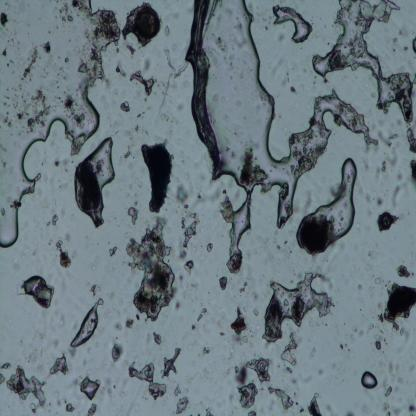Air bubble: (203, 0, 380, 231), (0, 1, 122, 249), (310, 0, 416, 124), (259, 273, 331, 340), (70, 137, 116, 229), (314, 158, 358, 245), (226, 193, 259, 272), (69, 296, 104, 350), (272, 3, 314, 45), (4, 366, 48, 406), (19, 277, 54, 312), (80, 378, 101, 402), (360, 368, 380, 391), (48, 356, 70, 375), (404, 128, 416, 157)
Background material: (126, 223, 178, 322), (378, 281, 416, 332), (127, 362, 166, 401), (18, 90, 51, 132), (293, 129, 319, 177), (231, 366, 258, 412), (28, 328, 57, 368), (204, 25, 233, 65), (241, 149, 267, 189), (121, 118, 144, 160), (158, 345, 182, 383), (21, 38, 41, 82), (280, 329, 299, 375), (178, 210, 200, 249), (80, 24, 101, 64), (244, 356, 273, 384), (59, 95, 86, 124), (229, 306, 249, 345), (116, 9, 138, 44), (379, 378, 399, 416), (130, 69, 155, 99), (94, 12, 118, 43), (267, 385, 295, 411), (390, 167, 406, 207), (371, 153, 395, 179), (155, 90, 173, 124), (378, 123, 400, 149), (98, 373, 117, 401), (377, 211, 400, 233), (352, 314, 374, 336), (54, 1, 74, 25), (191, 307, 210, 332), (56, 240, 73, 267), (174, 180, 188, 210), (306, 392, 322, 415), (238, 276, 256, 296), (174, 394, 190, 416), (52, 63, 66, 88), (277, 237, 294, 257), (6, 30, 22, 51), (322, 397, 338, 416), (70, 0, 89, 16), (109, 342, 124, 362), (112, 62, 128, 80), (126, 204, 139, 226), (117, 99, 132, 117), (50, 390, 63, 410), (122, 42, 138, 58), (396, 262, 411, 279), (408, 156, 416, 187), (2, 88, 15, 107), (402, 399, 416, 416), (182, 258, 195, 276), (54, 160, 70, 174), (77, 62, 92, 76), (65, 342, 76, 360), (371, 195, 384, 210), (196, 344, 212, 356), (386, 363, 398, 378), (282, 69, 292, 87), (43, 39, 53, 57), (219, 275, 229, 292), (88, 285, 100, 299), (152, 332, 163, 347), (2, 113, 13, 128), (175, 270, 184, 288), (50, 340, 63, 352), (67, 376, 80, 388), (106, 288, 117, 302), (0, 10, 9, 27), (203, 404, 215, 416), (0, 204, 8, 221), (4, 56, 15, 68), (64, 402, 75, 414), (10, 199, 22, 210), (86, 402, 97, 414), (106, 245, 118, 256), (172, 300, 182, 313), (50, 213, 60, 226), (124, 317, 134, 330), (204, 241, 214, 254), (1, 361, 12, 372), (104, 75, 112, 90), (186, 280, 196, 292), (196, 188, 204, 202), (0, 140, 8, 154), (336, 342, 346, 353), (173, 386, 182, 398), (164, 23, 172, 36), (177, 100, 186, 111), (0, 372, 6, 386), (374, 341, 382, 351), (392, 32, 398, 44), (412, 37, 416, 55), (62, 56, 69, 65), (344, 411, 354, 416), (218, 330, 226, 336), (0, 160, 6, 168), (2, 48, 8, 56), (403, 46, 409, 52), (128, 184, 133, 190), (289, 86, 294, 92), (197, 411, 200, 416)
Cellulose filter fibre: (188, 0, 222, 171)
Diatom: (301, 219, 332, 255), (135, 8, 161, 39), (329, 50, 343, 72)
Fragment: (140, 139, 173, 214)
